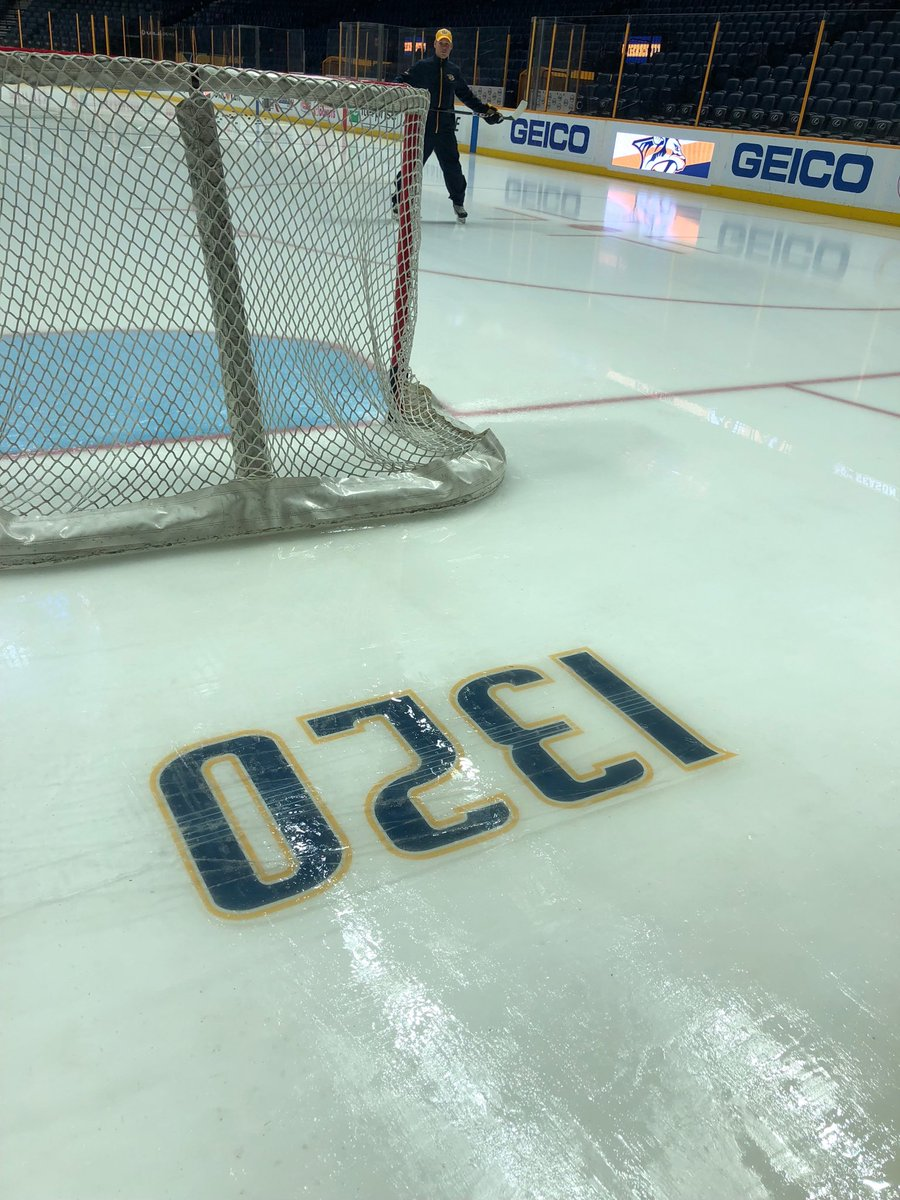geico: (724, 136, 876, 200), (499, 112, 605, 172)
